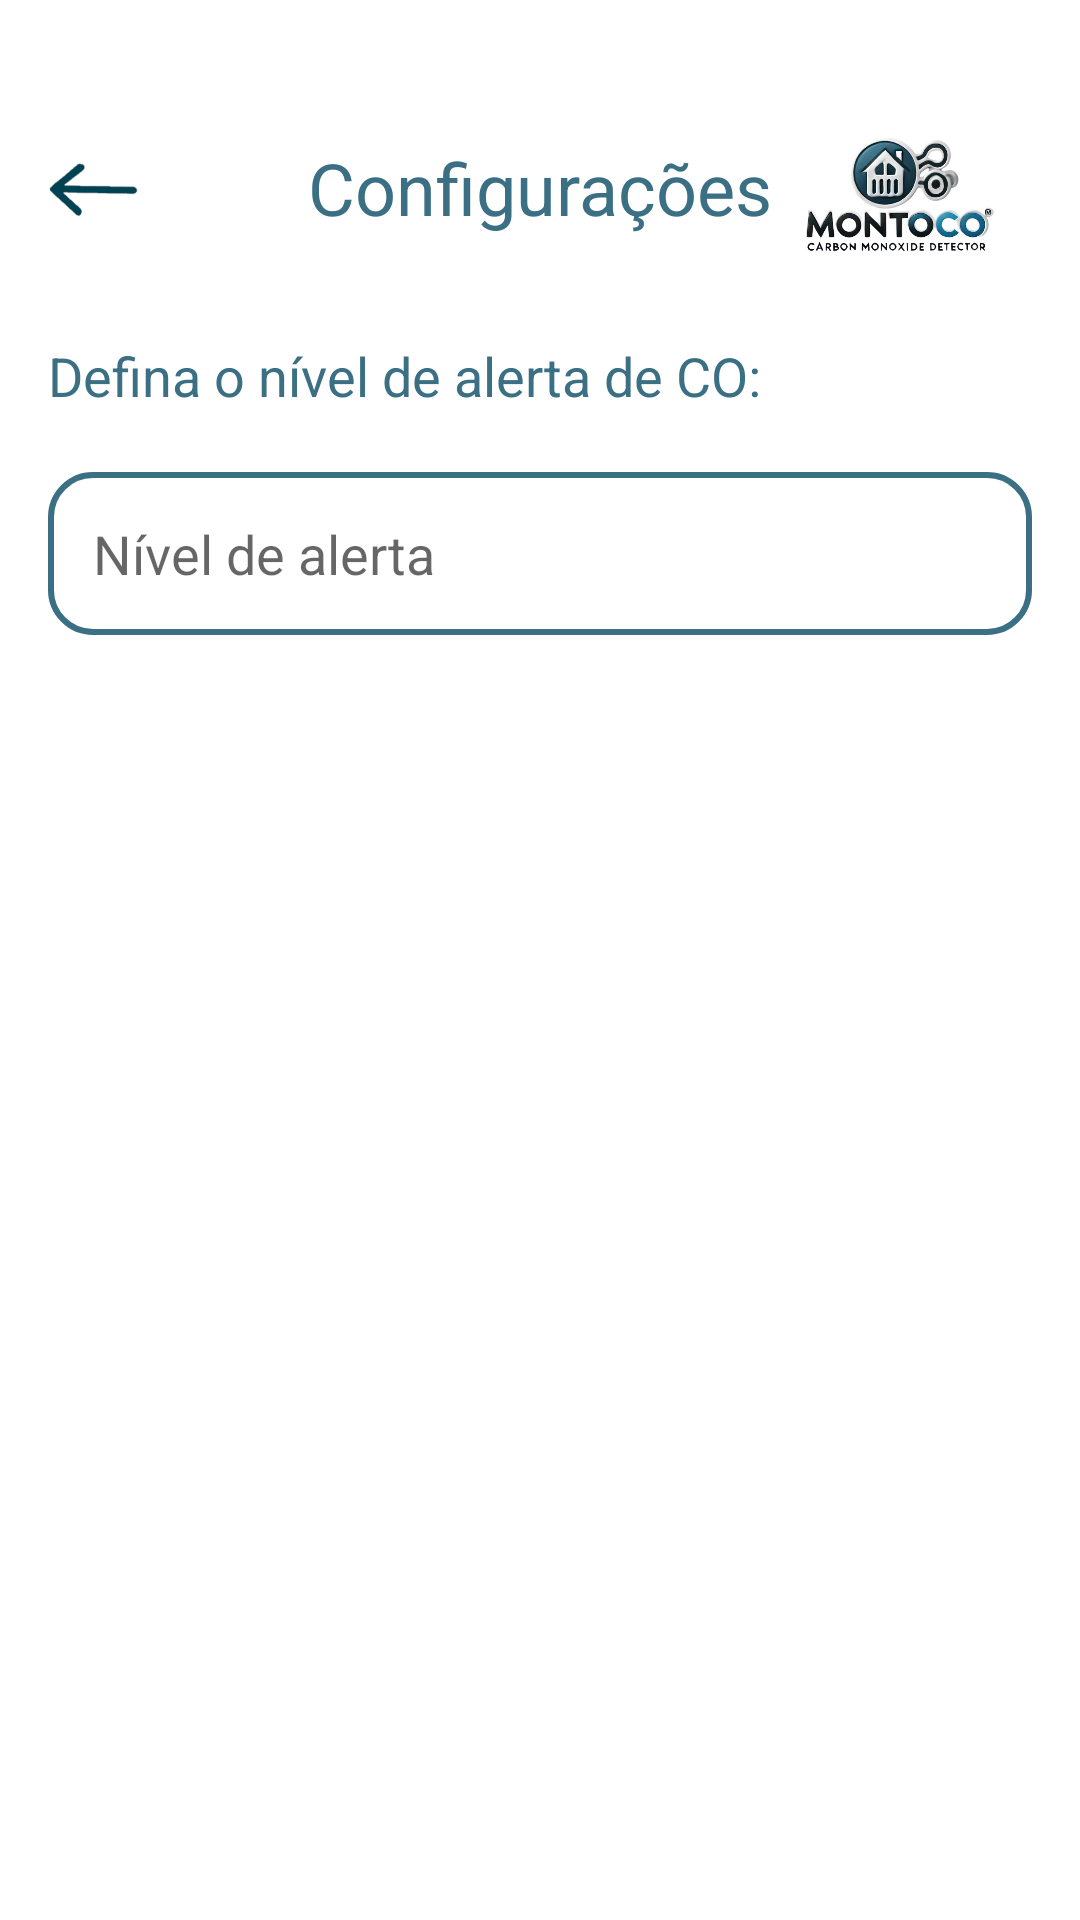

Where to tap for icons on this 1080px x 1920px app screen, as point (x, y):
back: point (93, 189)
